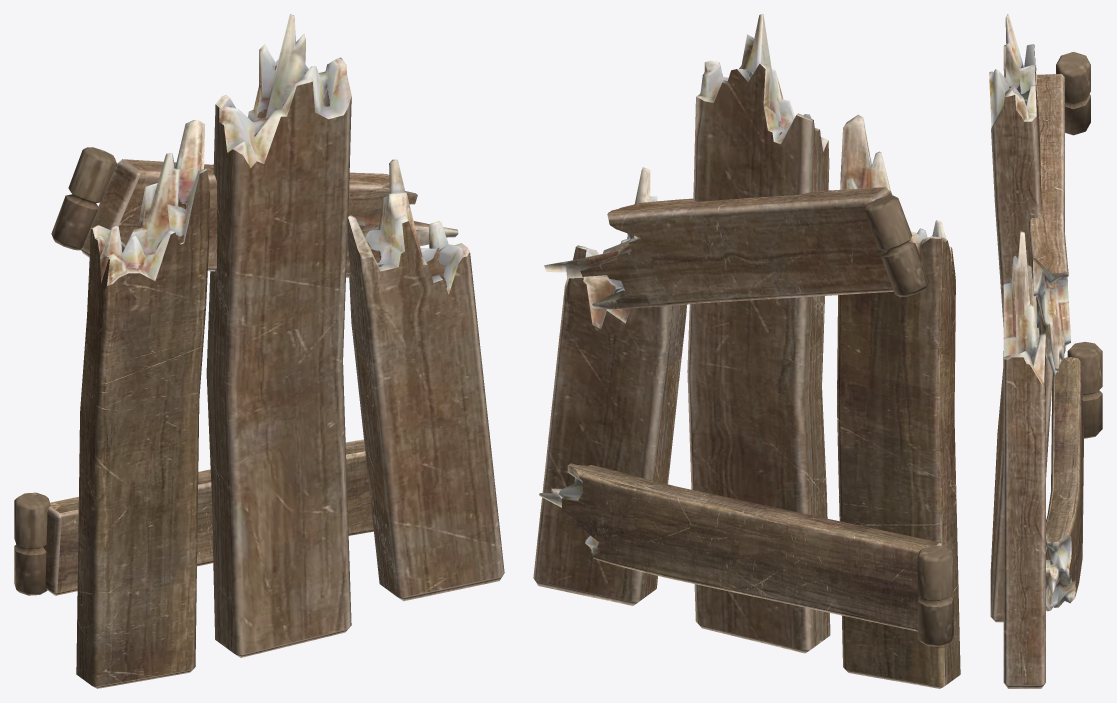
3 renders of one model, left to right at view 1: azimuth 30°, elevation 25°; view 2: azimuth 150°, elevation 25°; view 3: azimuth 270°, elevation 25°, orthographic. The views are drawn at different scales.
Parts seen in each view (by area): view 1: SM_Human_Ruins_Shutter_Dmg_01_LOD0; view 2: SM_Human_Ruins_Shutter_Dmg_01_LOD0; view 3: SM_Human_Ruins_Shutter_Dmg_01_LOD0.
Part boxes in pixels (<box>): SM_Human_Ruins_Shutter_Dmg_01_LOD0: <box>14,14,504,688</box>; SM_Human_Ruins_Shutter_Dmg_01_LOD0: <box>533,14,960,688</box>; SM_Human_Ruins_Shutter_Dmg_01_LOD0: <box>989,14,1102,688</box>.
Bounding box in the file's own units: 0.8718 × 1.18 × 0.2043.
1 material, 1 textured.
